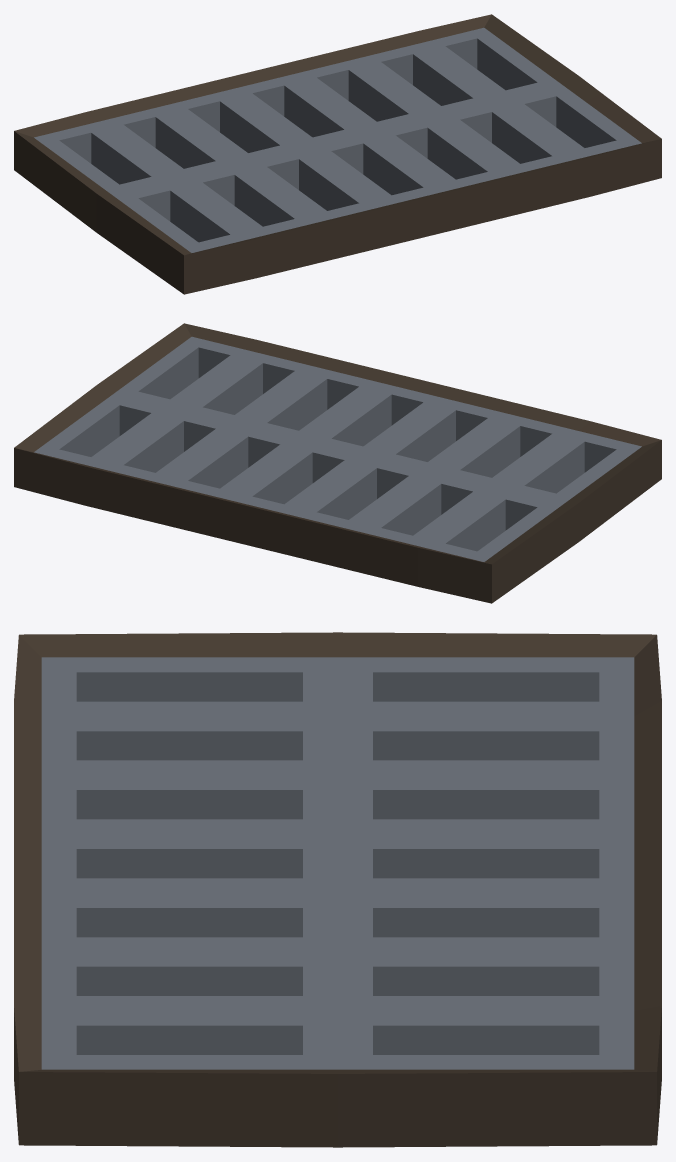
File: Manhole Covers 2.fbx
The picture shows the model from 3 angles, top to bottom: view 1: azimuth 30°, elevation 25°; view 2: azimuth 150°, elevation 25°; view 3: azimuth 270°, elevation 25°; orthographic projection. The views are drawn at different scales.
Visible parts, largest first — view 1: Manhole Covers 2; view 2: Manhole Covers 2; view 3: Manhole Covers 2.
Boxes of the visible parts, <box> form: Manhole Covers 2: <box>14,14,661,294</box>; Manhole Covers 2: <box>14,323,661,603</box>; Manhole Covers 2: <box>14,632,661,1147</box>.
Bounding box in the file's own units: 0.873 × 0.5414 × 0.0678.
